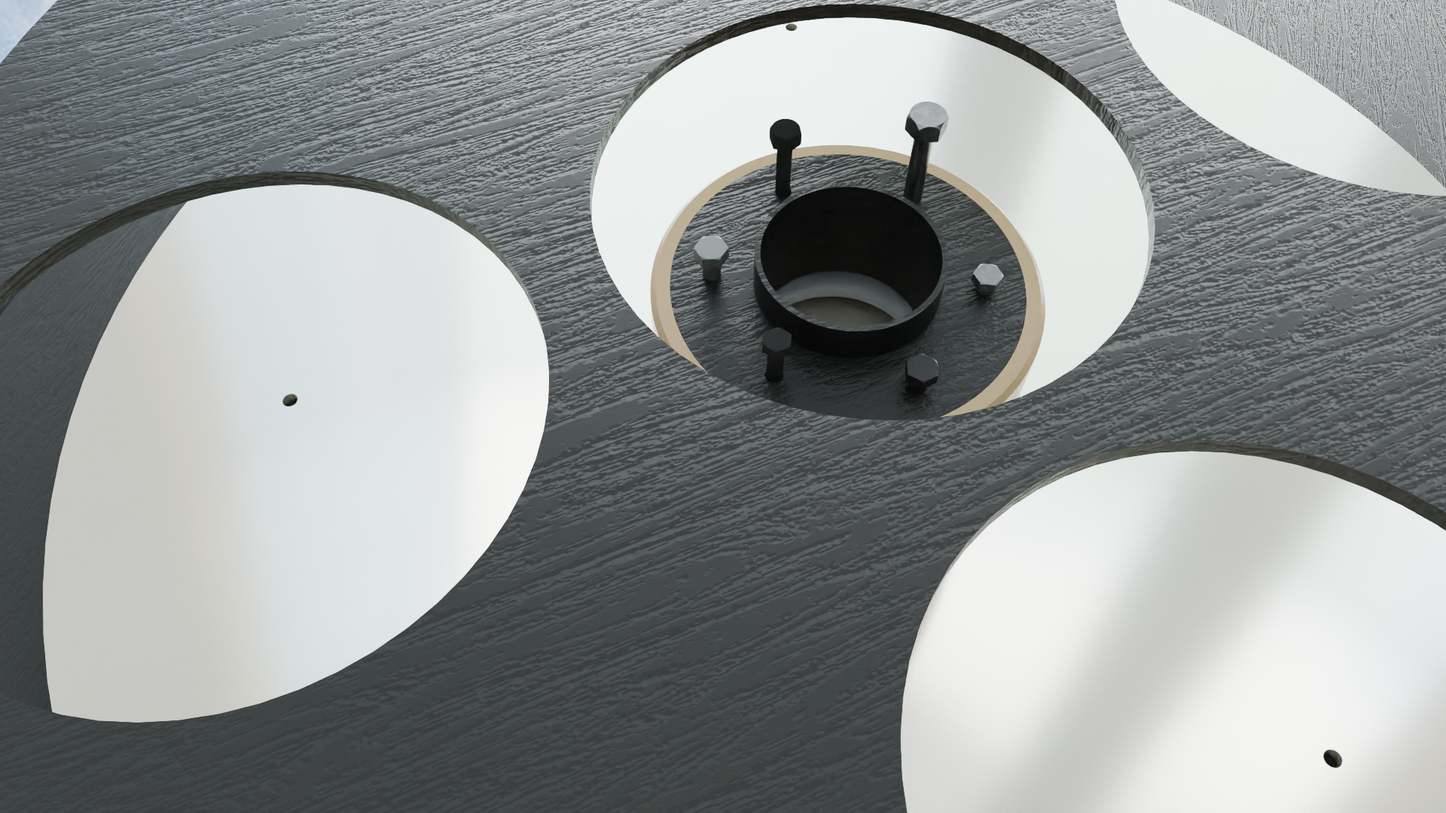bolt: (907, 102, 949, 130), (907, 354, 938, 382), (694, 236, 728, 260), (763, 327, 792, 352), (770, 119, 801, 142), (973, 264, 1004, 285)
